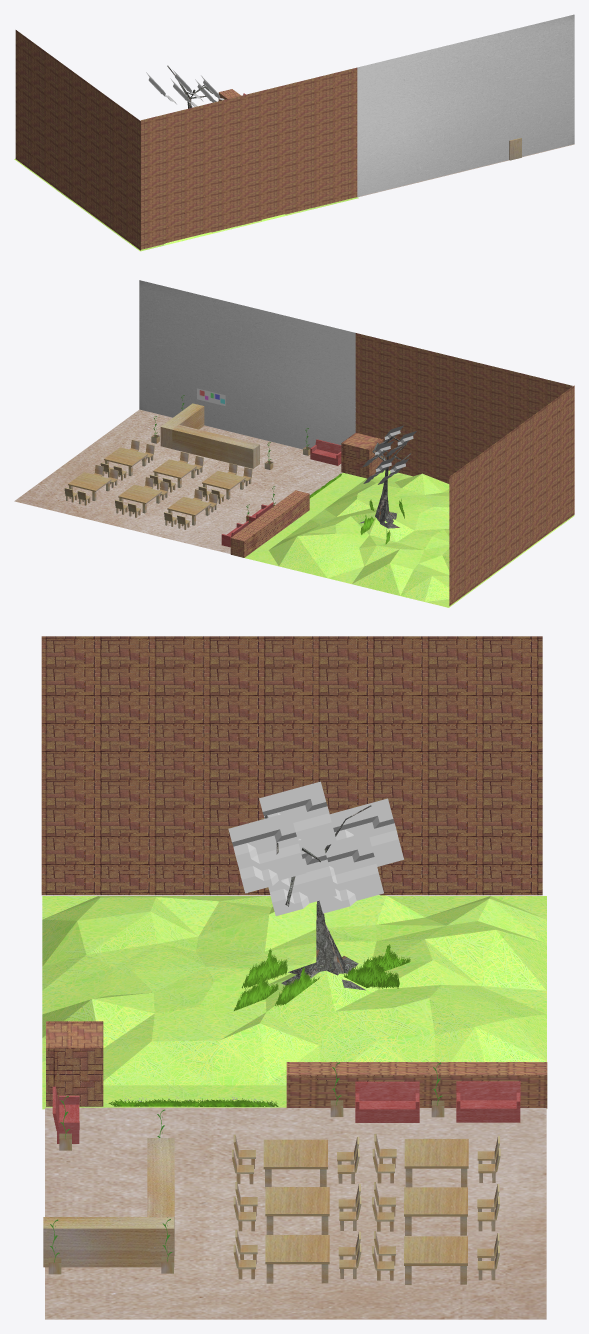
The model's file is daycare_room1.dae.
3 renders of one model, top to bottom at view 1: azimuth 30°, elevation 25°; view 2: azimuth 150°, elevation 25°; view 3: azimuth 270°, elevation 25°, orthographic. The views are drawn at different scales.
Visible parts, largest first — view 1: Wall1_001, Wall1, Wall1_002, Grid; view 2: Wall1, Wall1_001, Grid, Floor1, Wall1_002, StaffTable1, Cube_000, Cube_001, Tree1_001, Sofa1_003, Table1_005, Table1_002 (+4 smaller); view 3: Wall1_002, Grid, Floor1, StaffTable1, Cube_000, Cube_001, Grid_008_004, Grid_008_002, Grid_008_001, Sofa1_001, Sofa1_002, Grid_008 (+11 smaller).
Boxes of the visible parts, x1=… form: Wall1_001: x1=140, y1=67, x2=357, y2=249; Wall1: x1=357, y1=14, x2=574, y2=196; Wall1_002: x1=15, y1=30, x2=140, y2=250; Grid: x1=14, y1=158, x2=358, y2=251; Wall1: x1=139, y1=280, x2=355, y2=449; Wall1_001: x1=355, y1=333, x2=572, y2=483; Grid: x1=245, y1=470, x2=574, y2=607; Floor1: x1=14, y1=409, x2=342, y2=553; Wall1_002: x1=449, y1=385, x2=574, y2=605; StaffTable1: x1=160, y1=403, x2=259, y2=468; Cube_000: x1=230, y1=490, x2=309, y2=557; Cube_001: x1=341, y1=433, x2=383, y2=478; Tree1_001: x1=359, y1=436, x2=410, y2=528; Sofa1_003: x1=310, y1=439, x2=341, y2=465; Table1_005: x1=118, y1=484, x2=161, y2=513; Table1_002: x1=153, y1=459, x2=196, y2=487; Wall1_002: x1=41, y1=636, x2=542, y2=895; Grid: x1=42, y1=895, x2=546, y2=1109; Floor1: x1=45, y1=1107, x2=546, y2=1319; StaffTable1: x1=43, y1=1138, x2=174, y2=1267; Cube_000: x1=286, y1=1062, x2=547, y2=1108; Cube_001: x1=46, y1=1021, x2=103, y2=1106; Grid_008_004: x1=228, y1=812, x2=306, y2=893; Grid_008_002: x1=319, y1=832, x2=383, y2=913; Grid_008_001: x1=268, y1=835, x2=336, y2=915; Sofa1_001: x1=456, y1=1081, x2=520, y2=1122; Sofa1_002: x1=355, y1=1081, x2=419, y2=1122; Grid_008: x1=259, y1=781, x2=336, y2=846.
Bounding box in the file's own units: 31.31 × 15.76 × 9.17.
